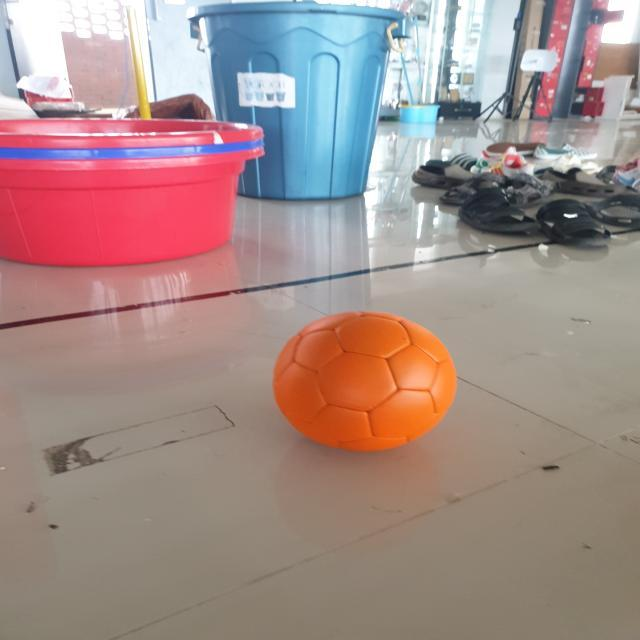bola: (237, 306, 478, 450)
